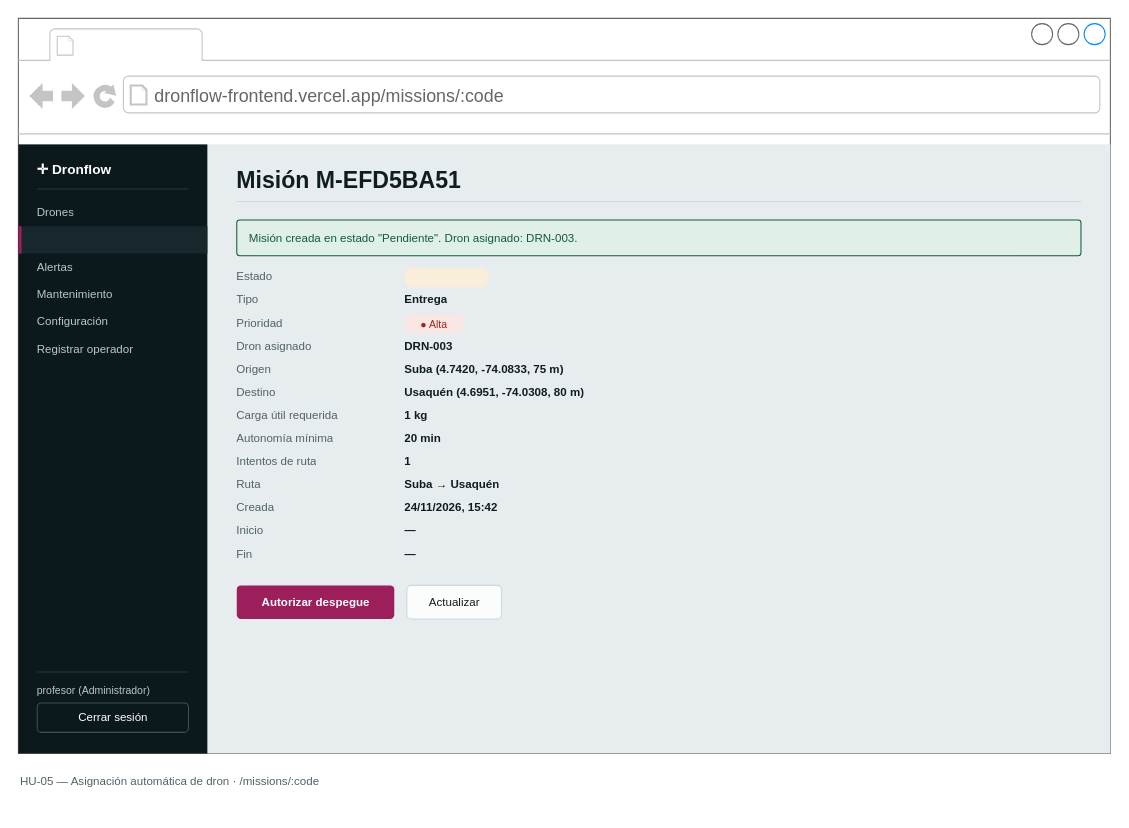
Image size: 1129x828. Some labels were removed from this diagram. The box of each missing label's shape, as (x1, y1, x2, y2) in pixels:
Misiones: (18, 226, 207, 253)
● Pendiente: (404, 268, 487, 287)
